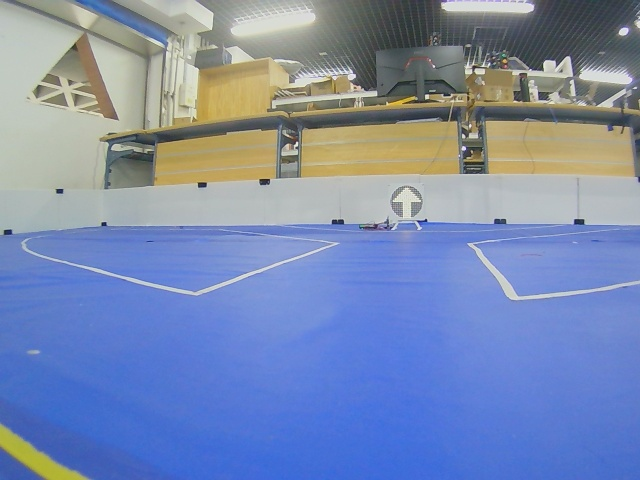straight_yellow: (390, 186, 423, 220)
